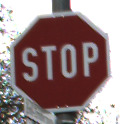stopsign: (11, 13, 110, 113)
